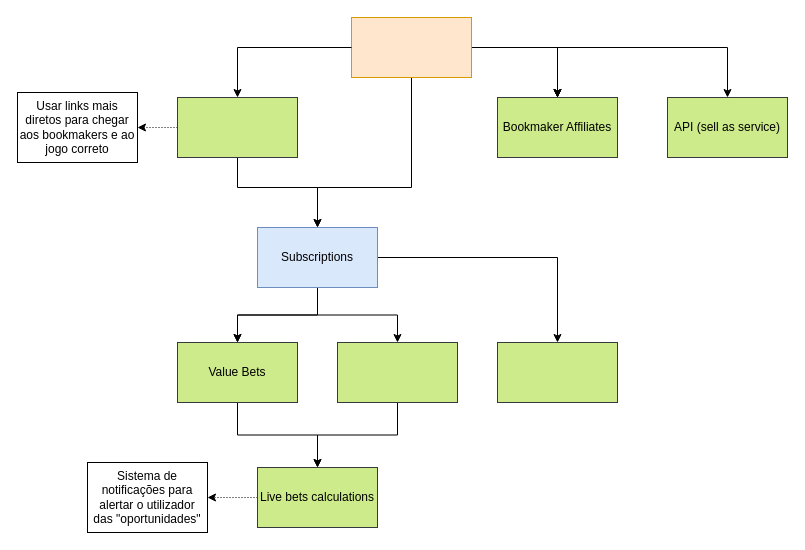
This 805x550 diagram has some shape labels left out. Each missing label, with the centre of its shape:
"Highest Odds + Afilliate" goes at (237,127).
"Humble Bets" goes at (411,47).
"Recent Stats (Api-Footbal)" goes at (557,372).
"Sure Bets" goes at (397,372).
